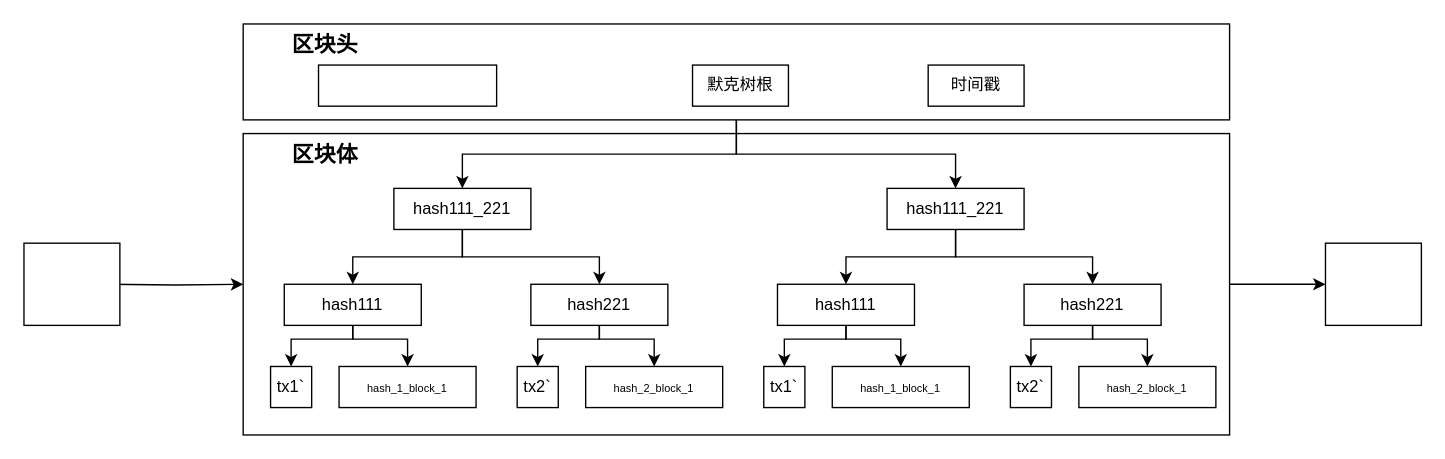
Image size: 1445x459. Some labels were removed from this diagram. The shapes that lost their labels are listed below. From the top down, each one's centre as x and y in pixels, then its label:
point 407,85: 前一个区块的哈希值
point 71,283: 前一个区块
point 1372,283: 后一个区块
